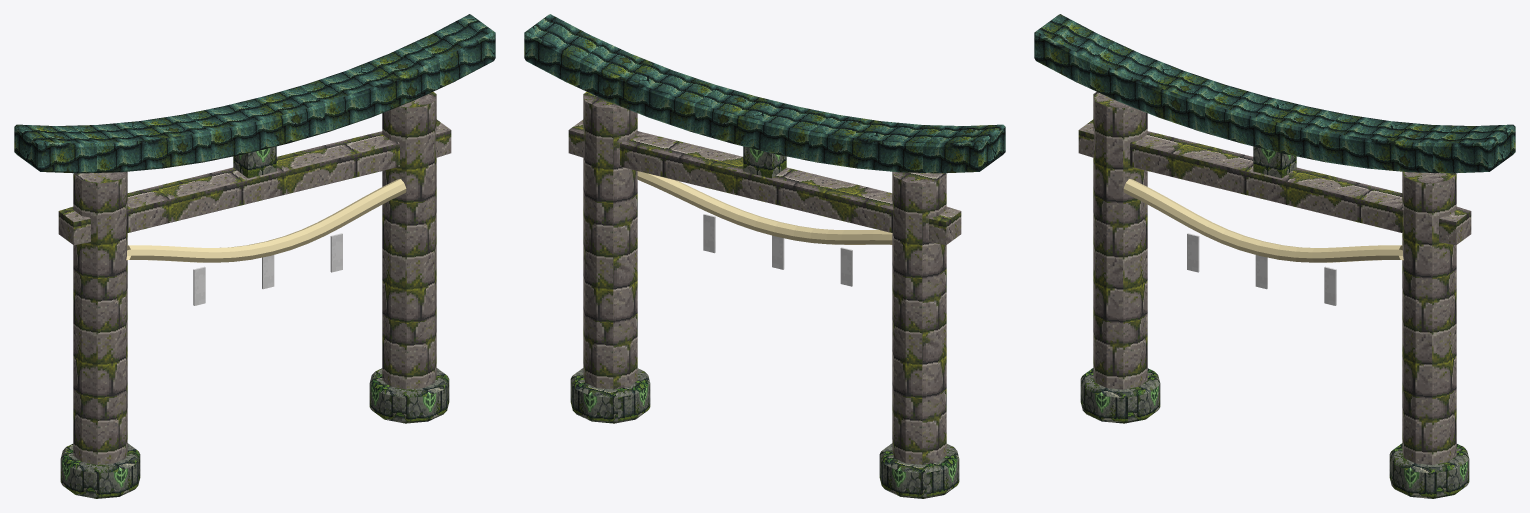
File: sanct_gate.glb
3 views of the same model, side by side, from view 1: azimuth 30°, elevation 25°; view 2: azimuth 150°, elevation 25°; view 3: azimuth 330°, elevation 25° (orthographic).
Visible parts, largest first — view 1: Kasagi, Pillar-1, Pillar1, Nuki, Rope, Foot-1, Foot1, Plaque; view 2: Kasagi, Pillar-1, Pillar1, Nuki, Rope, Foot-1, Foot1, Plaque; view 3: Kasagi, Pillar1, Pillar-1, Nuki, Rope, Foot1, Foot-1, Plaque.
Boxes of the visible parts, left/top/right/bottom form: Kasagi: left=14, top=14, right=495, bottom=173; Pillar-1: left=73, top=171, right=127, bottom=464; Pillar1: left=382, top=92, right=436, bottom=389; Nuki: left=58, top=119, right=451, bottom=245; Rope: left=126, top=179, right=406, bottom=262; Foot-1: left=60, top=443, right=140, bottom=498; Foot1: left=369, top=368, right=449, bottom=423; Plaque: left=233, top=146, right=276, bottom=178; Kasagi: left=524, top=14, right=1005, bottom=173; Pillar-1: left=892, top=171, right=946, bottom=464; Pillar1: left=583, top=92, right=637, bottom=389; Nuki: left=568, top=119, right=961, bottom=245; Rope: left=637, top=171, right=892, bottom=244; Foot-1: left=879, top=443, right=959, bottom=498; Foot1: left=570, top=368, right=650, bottom=423; Plaque: left=743, top=146, right=786, bottom=178; Kasagi: left=1034, top=14, right=1515, bottom=173; Pillar1: left=1402, top=171, right=1456, bottom=464; Pillar-1: left=1093, top=92, right=1147, bottom=389; Nuki: left=1078, top=119, right=1471, bottom=245; Rope: left=1123, top=179, right=1403, bottom=262; Foot1: left=1389, top=443, right=1469, bottom=498; Foot-1: left=1080, top=368, right=1160, bottom=423; Plaque: left=1253, top=146, right=1296, bottom=178.
Bounding box in the file's own units: 8 × 6.14 × 1.21.
Materials: 5 (4 with a texture image).
